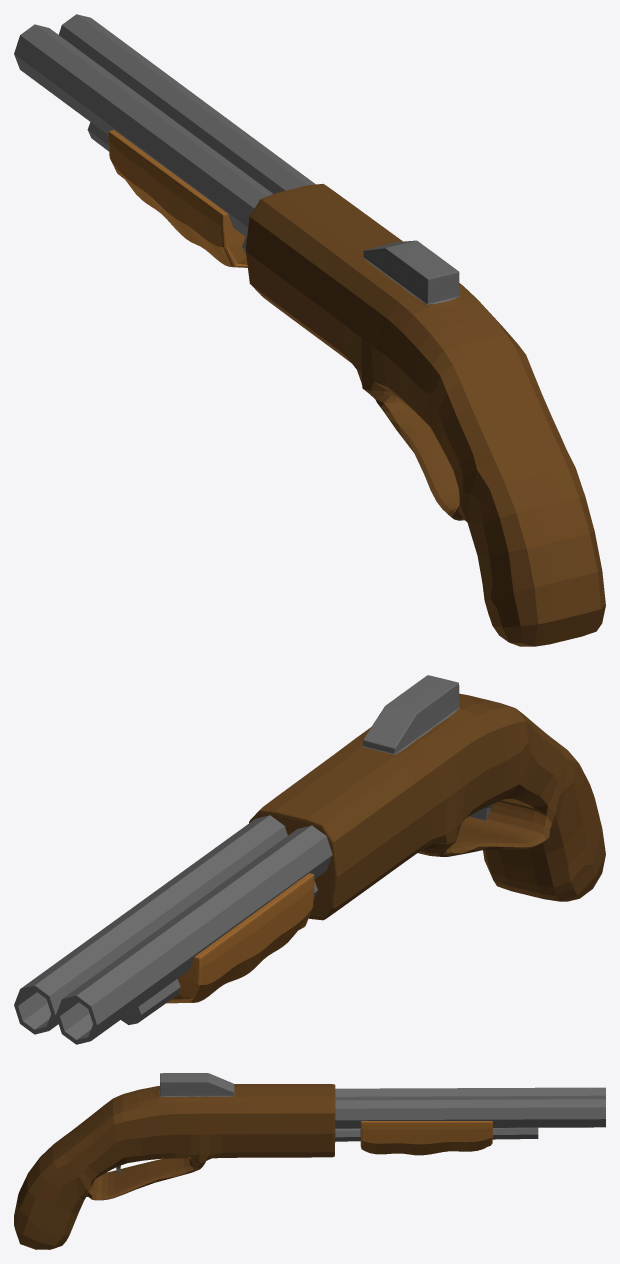
The model's file is shotgun (2).fbx.
The picture shows the model from 3 angles, top to bottom: view 1: azimuth 30°, elevation 25°; view 2: azimuth 150°, elevation 25°; view 3: azimuth 270°, elevation 25°; orthographic projection. The views are drawn at different scales.
Visible parts, largest first — view 1: Cube.001; view 2: Cube.001; view 3: Cube.001.
Boxes of the visible parts, bbox=[...] form: Cube.001: bbox=[14, 14, 605, 646]; Cube.001: bbox=[14, 675, 605, 1044]; Cube.001: bbox=[14, 1073, 605, 1249].
Size of the model in its own units: 50.8 by 144 by 472.
